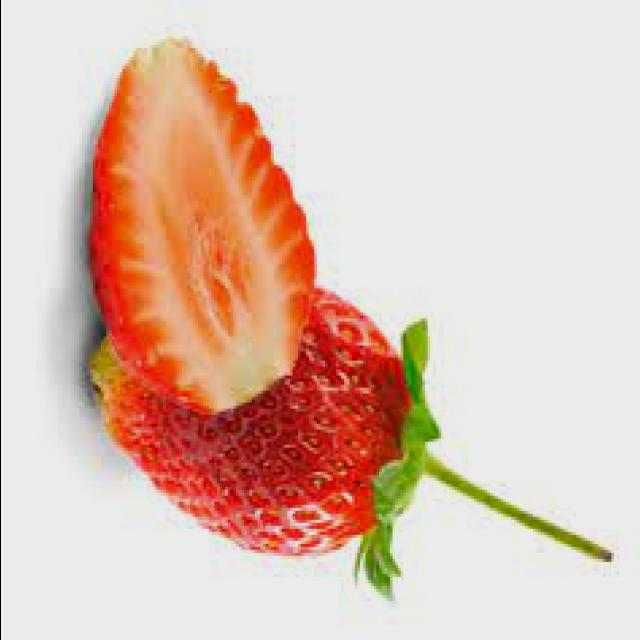strawberry: (69, 282, 463, 566), (90, 48, 298, 406)
